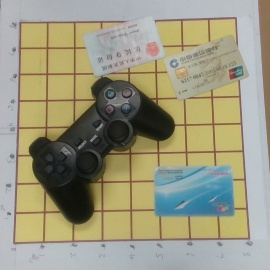card: (161, 35, 249, 101), (80, 13, 168, 77), (154, 164, 235, 217)
remote: (25, 76, 175, 225)
